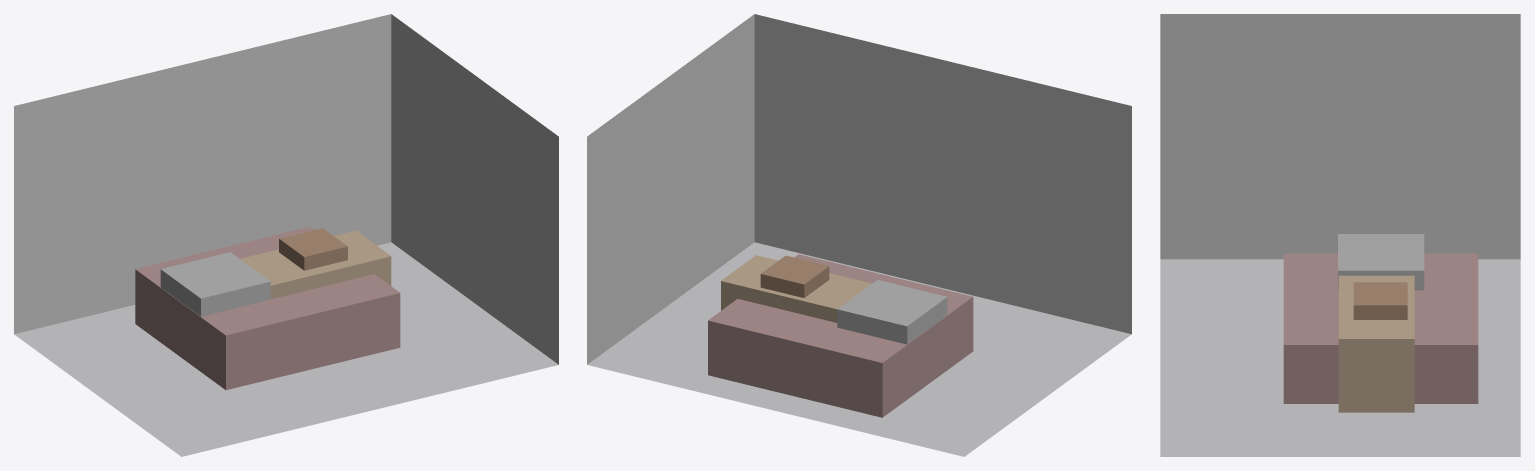
Rendered from current_layout.glb.
3 renders of one model, left to right at view 1: azimuth 30°, elevation 25°; view 2: azimuth 150°, elevation 25°; view 3: azimuth 270°, elevation 25°, orthographic. The views are drawn at different scales.
Parts seen in each view (by area): view 1: room, bed, wardrobe, desk, chair; view 2: room, bed, wardrobe, desk, chair; view 3: room, bed, desk, wardrobe, chair.
Part boxes in pixels (<box>): room: <box>14,14,558,456</box>; bed: <box>135,226,400,389</box>; wardrobe: <box>160,252,270,316</box>; desk: <box>240,230,391,299</box>; chair: <box>279,228,347,270</box>; room: <box>587,14,1131,456</box>; bed: <box>708,254,973,417</box>; wardrobe: <box>837,280,947,344</box>; desk: <box>721,255,872,322</box>; chair: <box>760,255,829,297</box>; room: <box>1160,14,1520,456</box>; bed: <box>1283,253,1478,403</box>; desk: <box>1338,275,1414,412</box>; wardrobe: <box>1338,234,1424,290</box>; chair: <box>1353,282,1407,319</box>.
Size of the model in its own units: 4.32 by 2.5 by 3.33.
